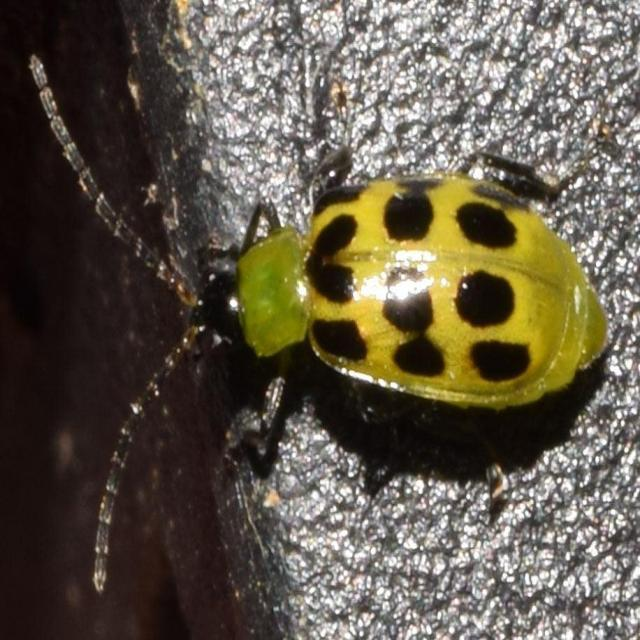gusano_verde: (29, 56, 608, 594)
